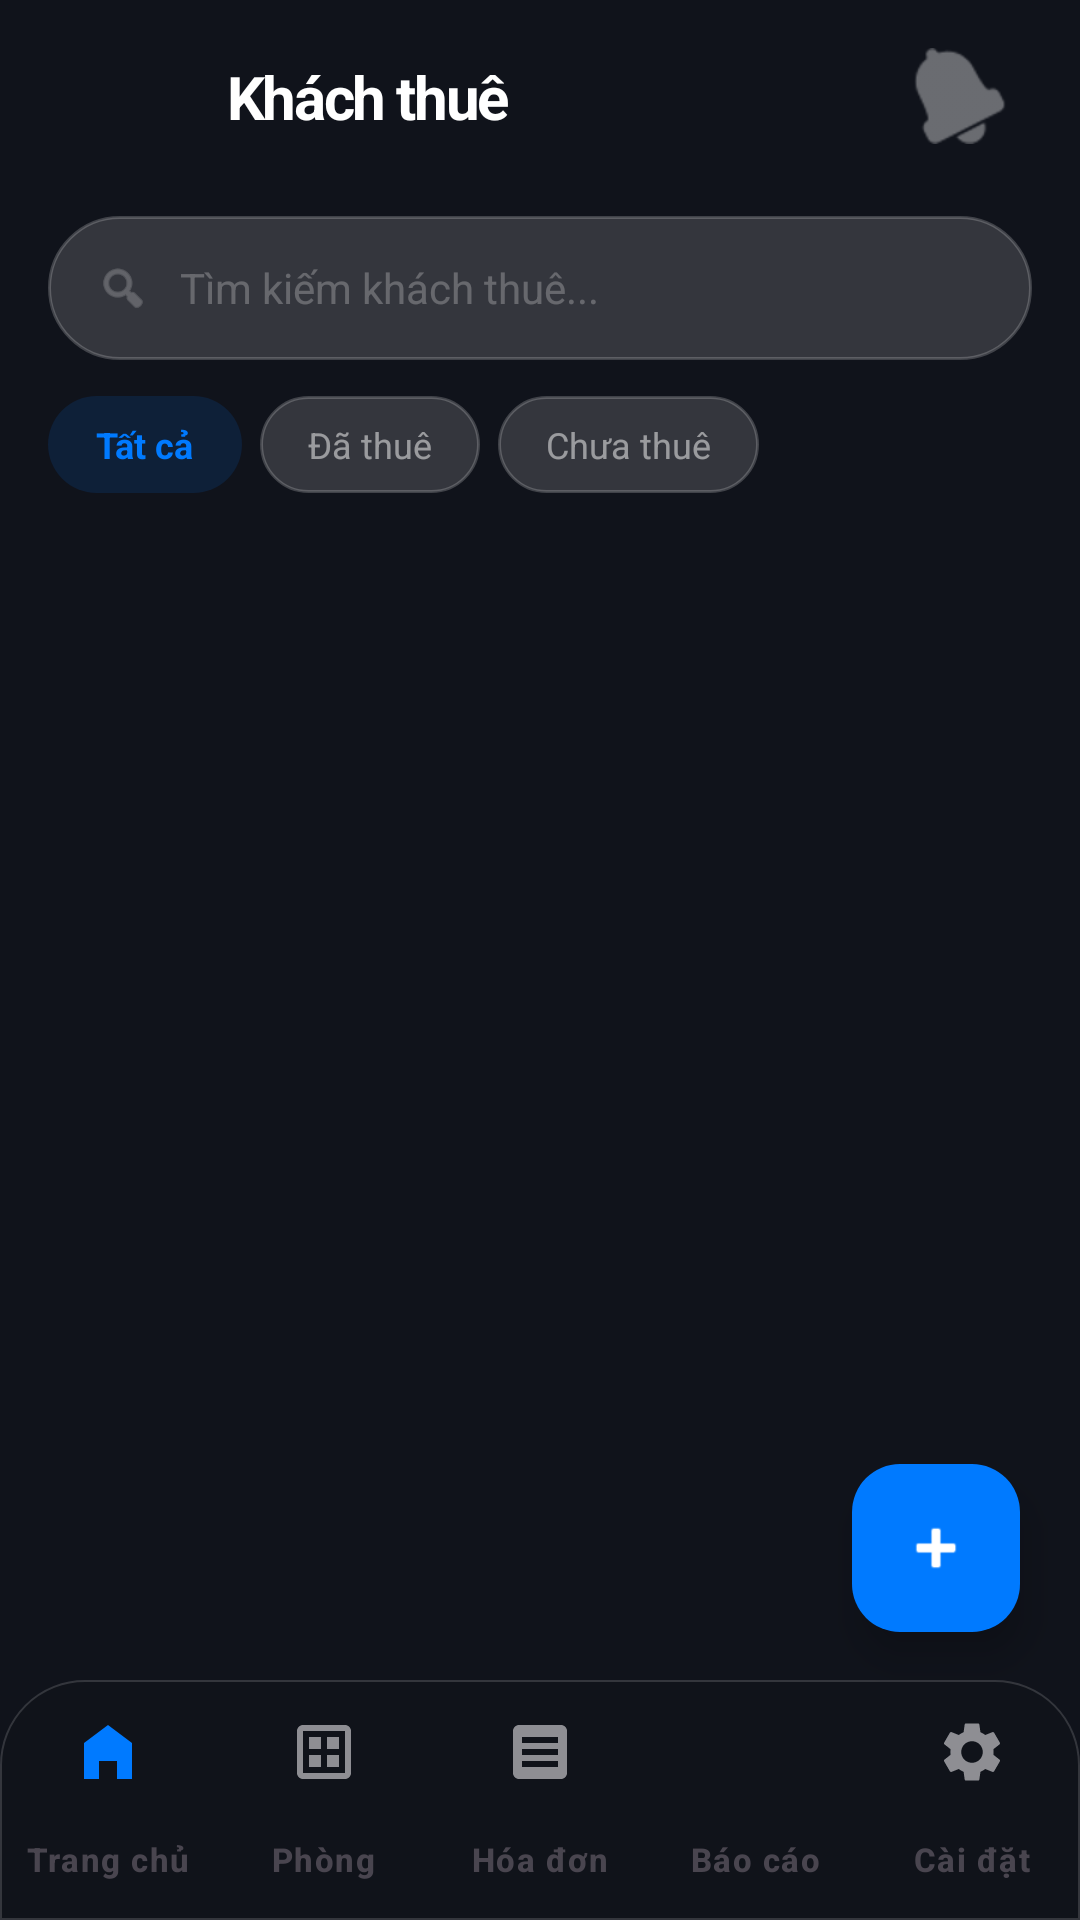

Where icons sit on this 1080w x 1920h app screen, as box(x1, y1, x2, y2):
Thêm khách thuê mới: box(852, 1464, 1020, 1632)
Thông báo: box(915, 48, 1005, 144)
